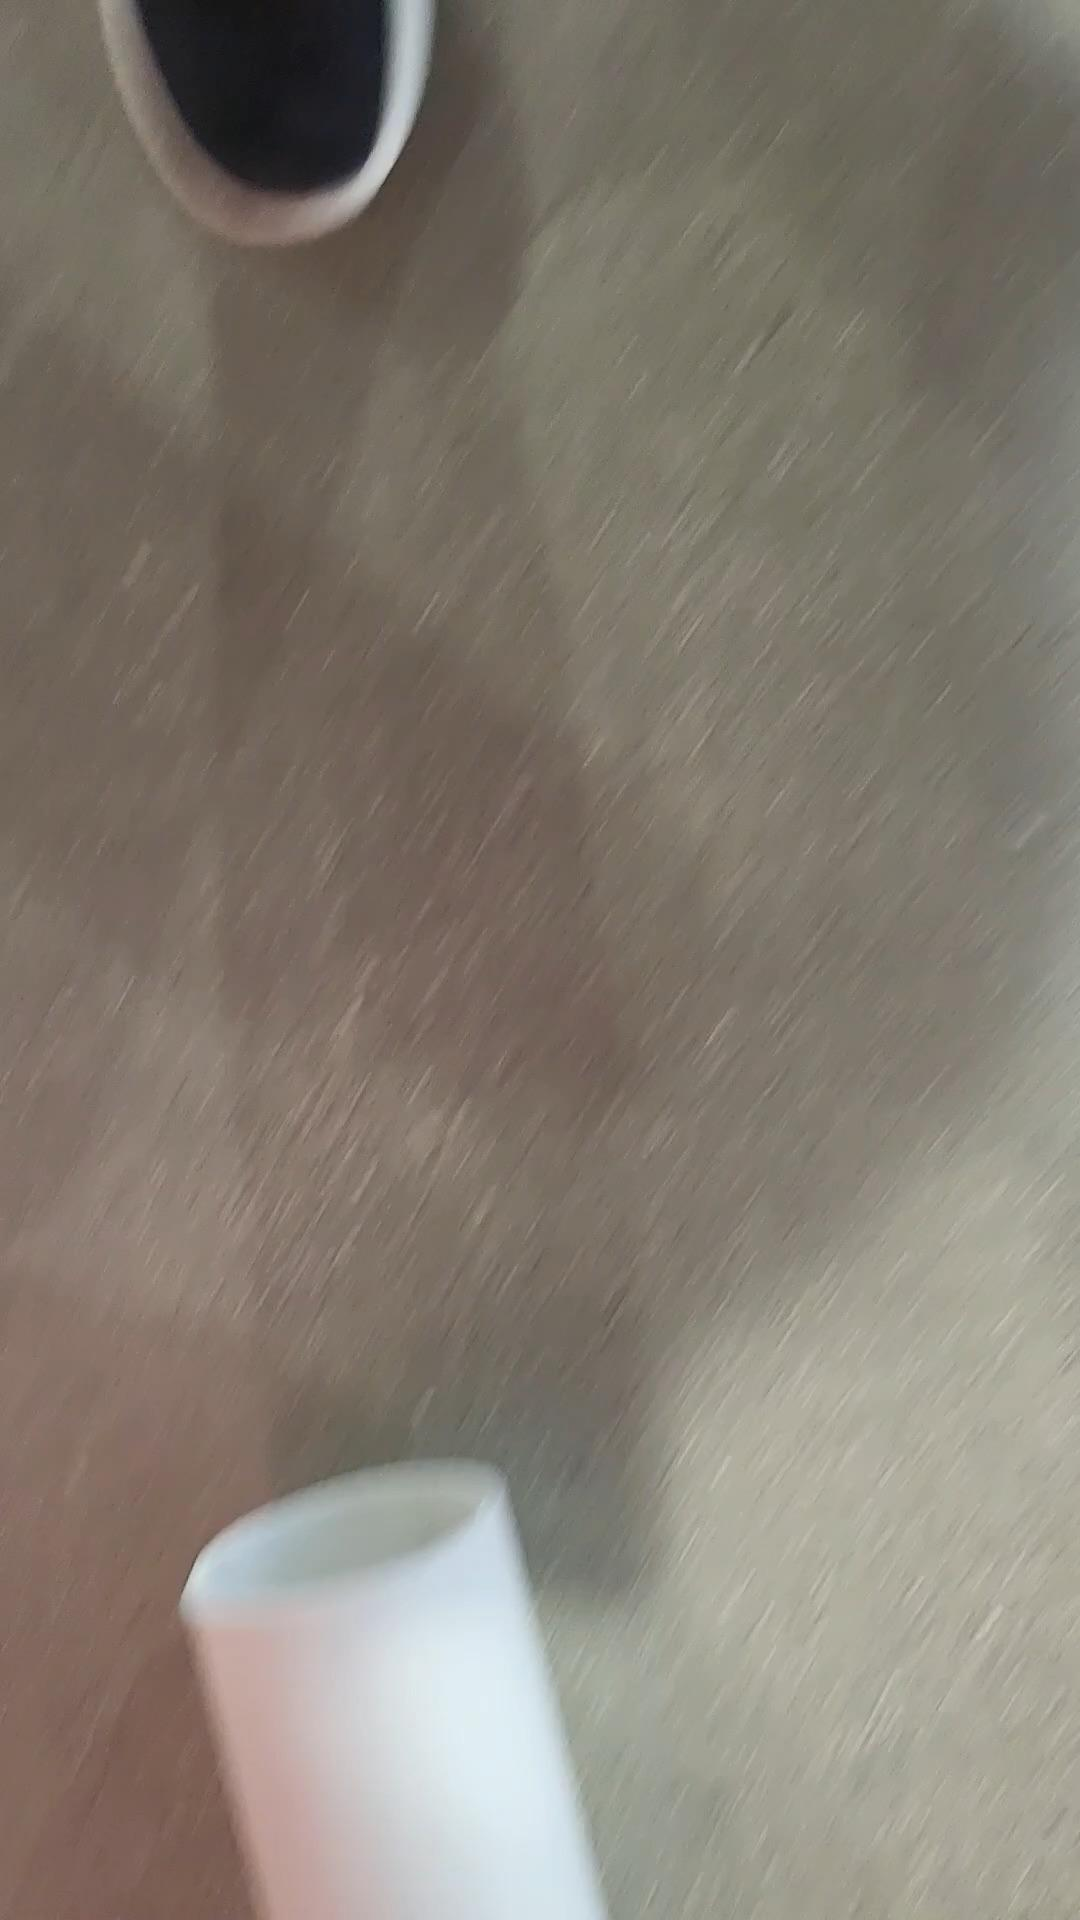coral: (182, 1468, 628, 1920)
